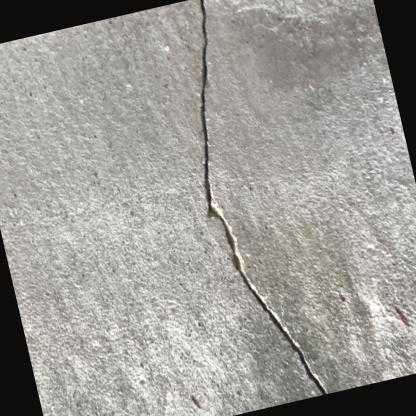crack: (197, 0, 329, 395)
